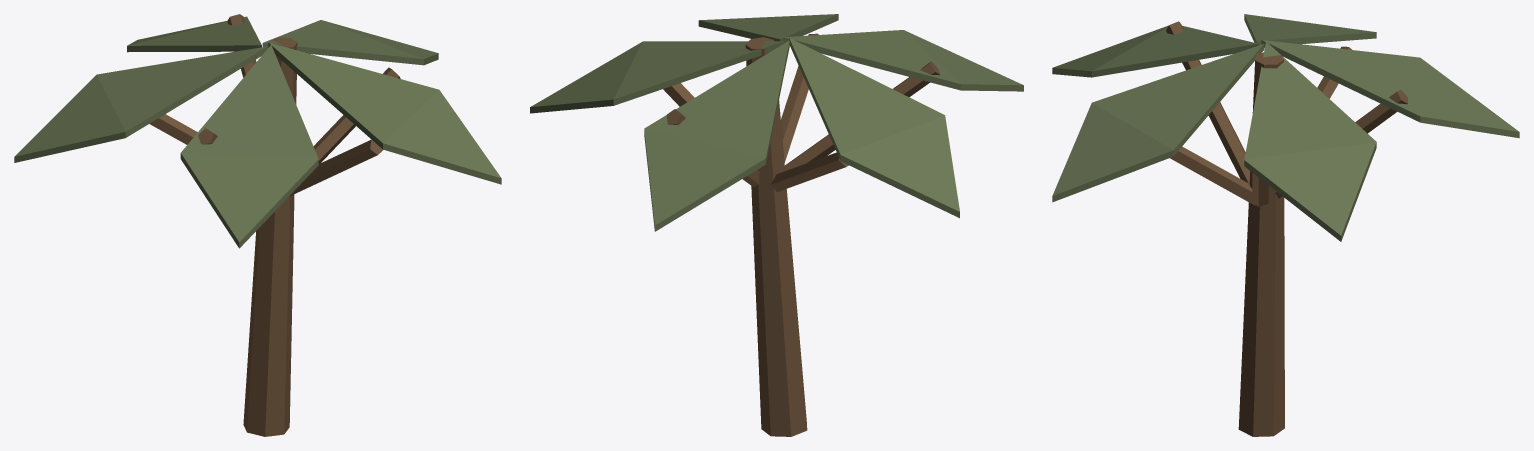
File: palm.glb
3 views of the same model, side by side, from view 1: azimuth 30°, elevation 25°; view 2: azimuth 150°, elevation 25°; view 3: azimuth 270°, elevation 25° (orthographic).
Visible parts, largest first — view 1: palm__body; view 2: palm__body; view 3: palm__body.
Boxes of the visible parts, x1,y1,x2,y2 form: palm__body: [14, 14, 501, 436]; palm__body: [530, 14, 1023, 436]; palm__body: [1052, 14, 1519, 436].
Bounding box in the file's own units: 2.47 × 2.14 × 2.35.
